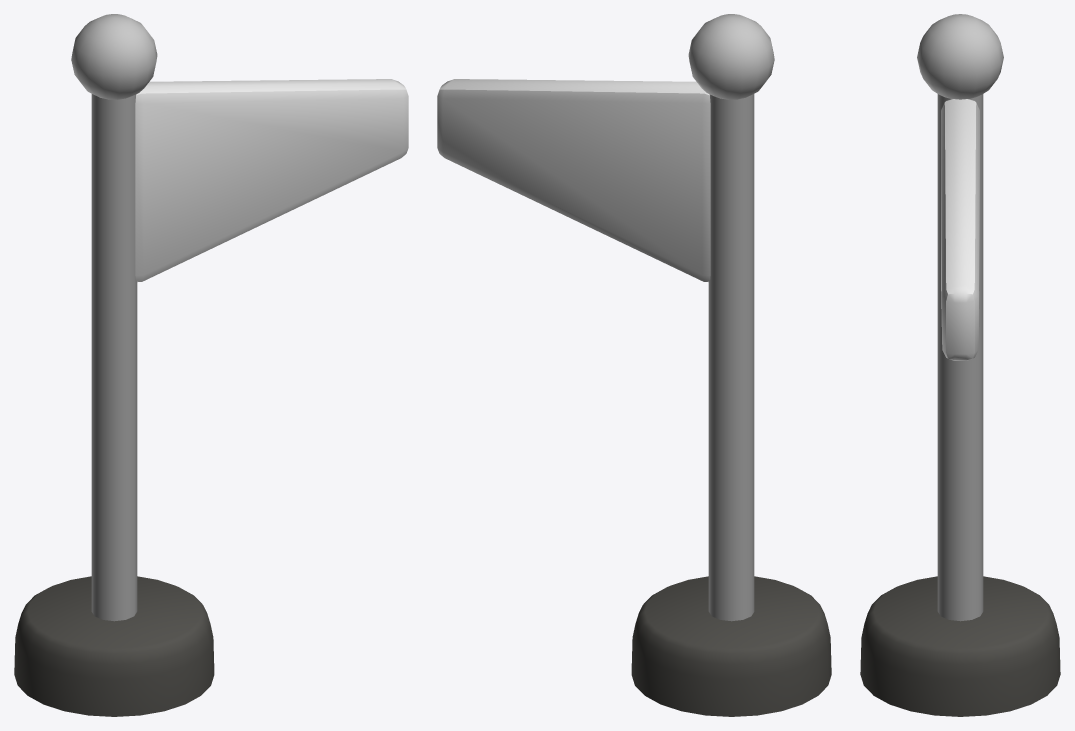
Rendered from Flag.fbx.
3 views of the same model, side by side, from view 1: azimuth 30°, elevation 25°; view 2: azimuth 150°, elevation 25°; view 3: azimuth 270°, elevation 25° (orthographic).
Visible parts, largest first — view 1: Flag; view 2: Flag; view 3: Flag.
Part boxes in pixels (box(x1,y1,x2,y2)): Flag: box(14, 14, 408, 716); Flag: box(437, 14, 831, 716); Flag: box(860, 14, 1060, 716).
Bounding box in the file's own units: 120 × 200 × 55.24.
Materials: 2 (1 with a texture image).
